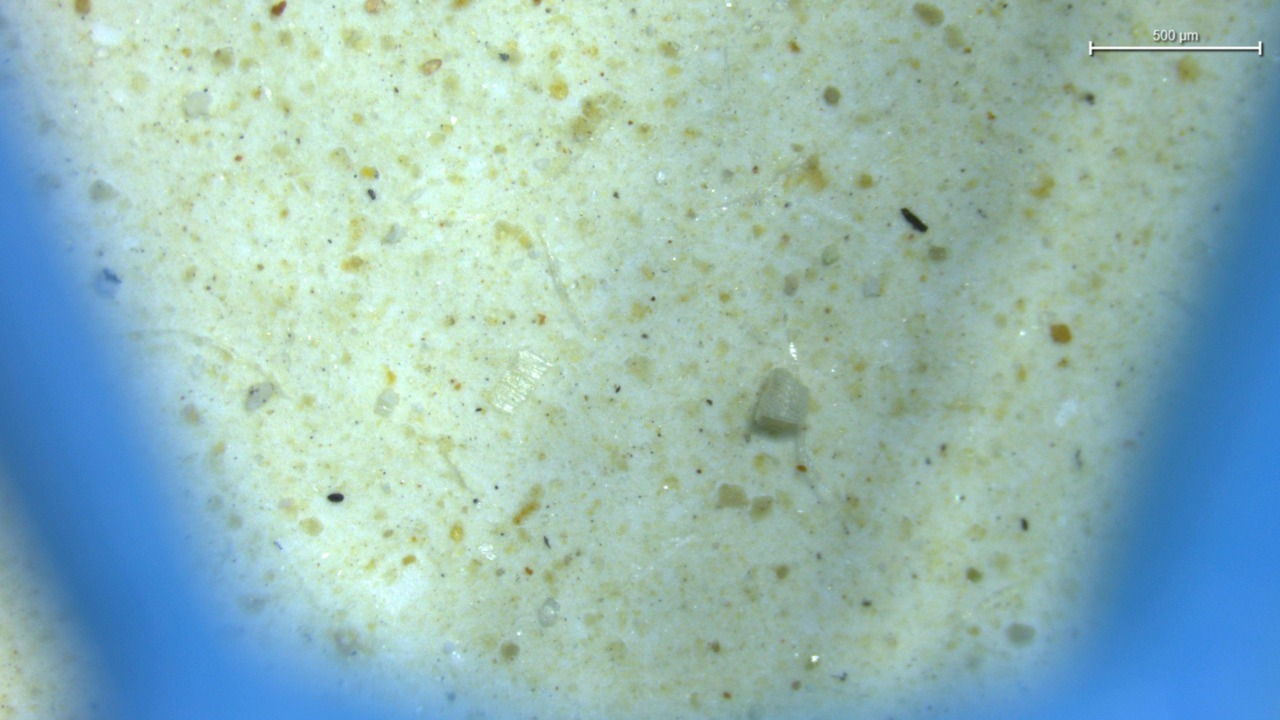microplastic_fragment: (489, 350, 554, 413), (753, 368, 809, 427)
